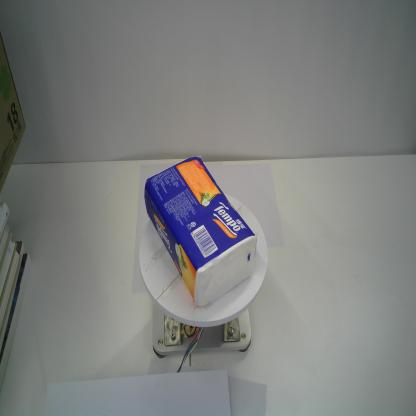Tissue: (143, 154, 258, 309)
